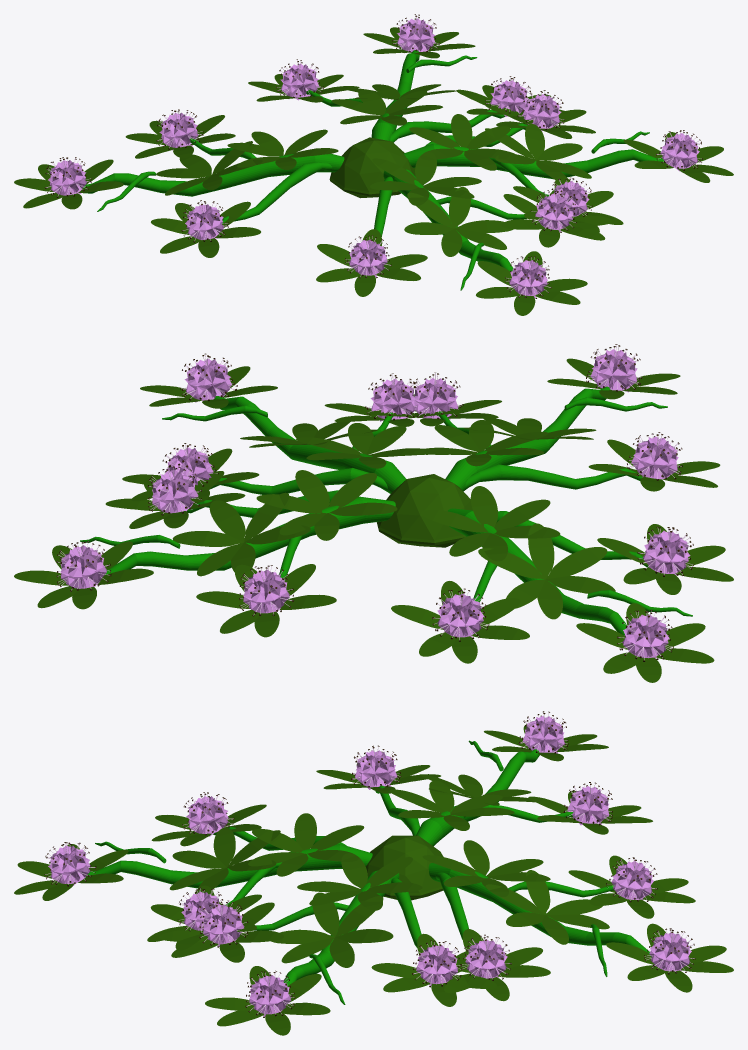
Rendered from rhododendron_FINAL.fbx.
The picture shows the model from 3 angles, top to bottom: view 1: azimuth 30°, elevation 25°; view 2: azimuth 150°, elevation 25°; view 3: azimuth 270°, elevation 25°; orthographic projection. The views are drawn at different scales.
Visible parts, largest first — view 1: rhod.final; view 2: rhod.final; view 3: rhod.final.
Boxes of the visible parts, <box> form: rhod.final: <box>14,14,733,315</box>; rhod.final: <box>14,344,733,682</box>; rhod.final: <box>14,711,733,1035</box>.
Bounding box in the file's own units: 436 × 34.56 × 425.
